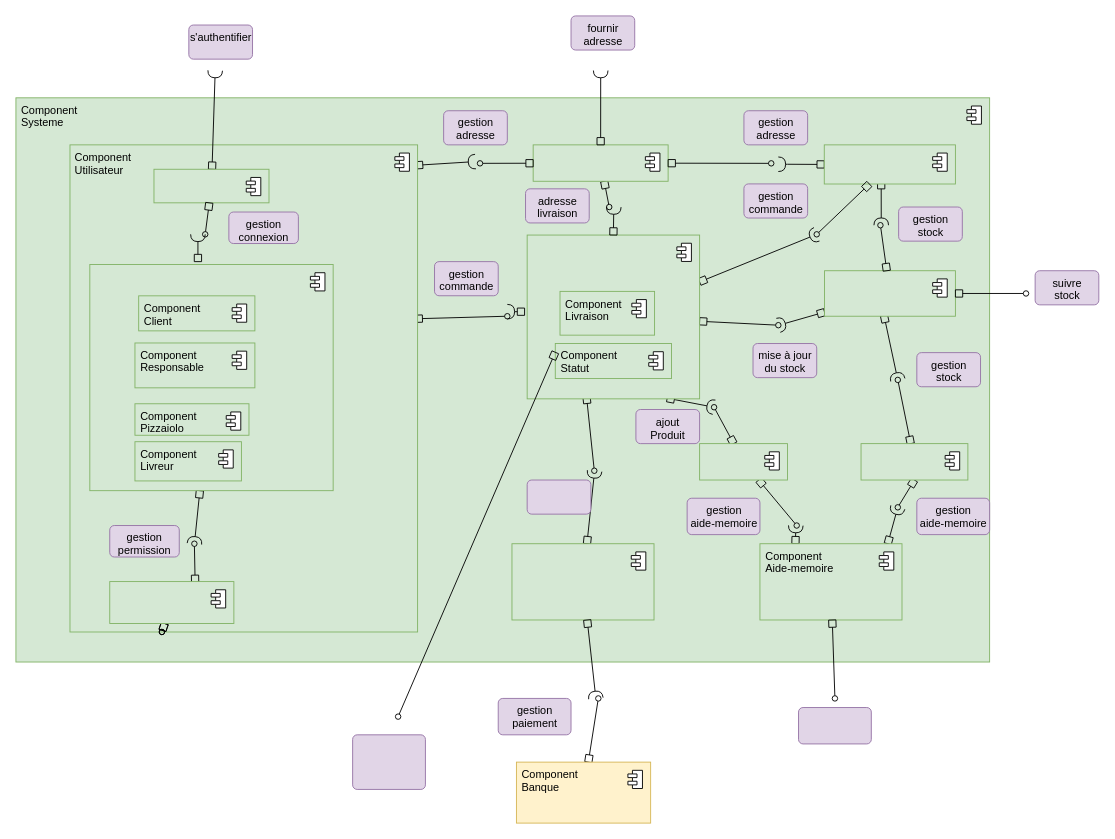
Image size: 1115x839. Some labels were removed from this diagram. The box of each missing label's shape, as (x1, y1, x2, y2) in pixels:
Component Adresse: (532, 144, 668, 181)
Component Commande: (526, 234, 700, 399)
Component Connexion: (153, 168, 269, 203)
Component Ingredient: (860, 443, 968, 480)
Component Paiement: (511, 543, 654, 620)
Component Permission: (109, 581, 234, 624)
Component Pizzeria: (823, 144, 955, 184)
Component Produit: (699, 443, 788, 480)
Component Profil: (89, 264, 333, 491)
Component Stock_Ingredients: (824, 270, 955, 316)
consulter aide-memoire: (798, 707, 871, 744)
consulter statut commande: (352, 734, 425, 789)
mise à jour Paiement: (526, 479, 591, 514)
